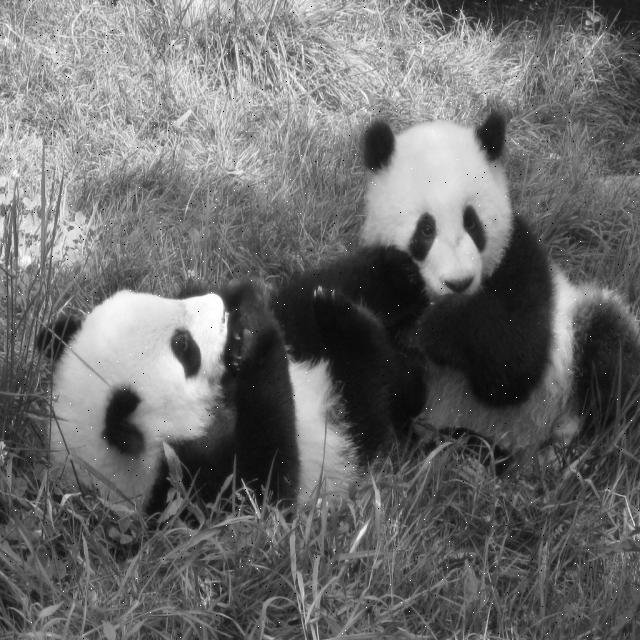panda: (277, 105, 639, 492), (27, 273, 404, 537)
